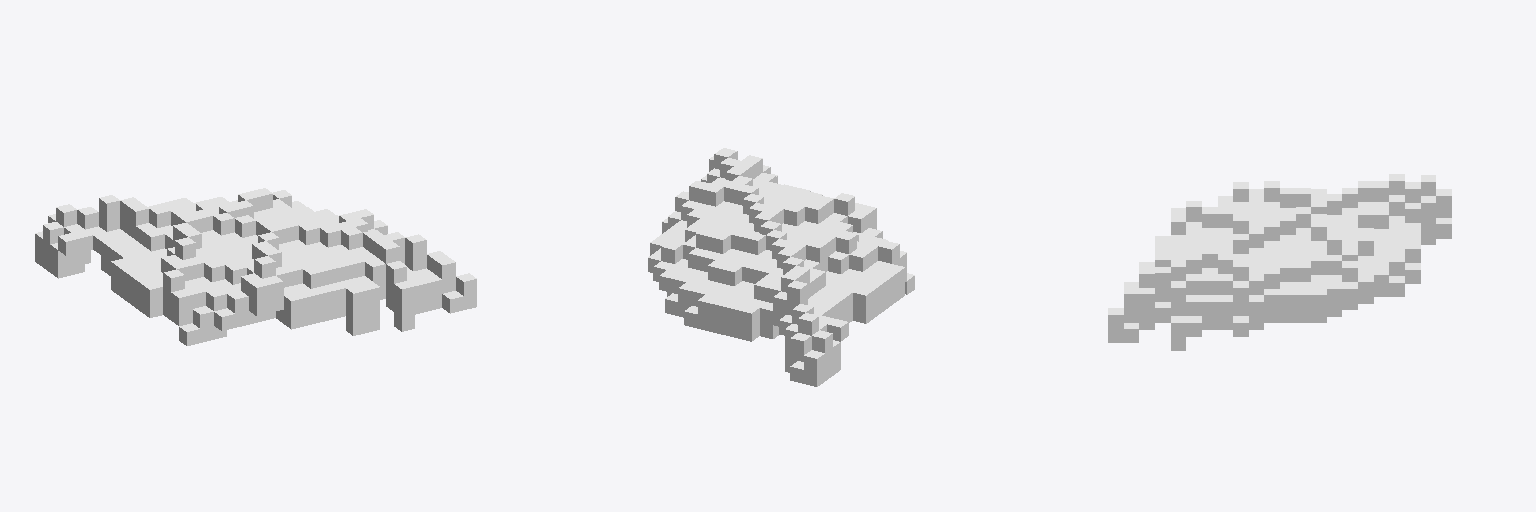
File: herb.obj
3 renders of one model, left to right at view 1: azimuth 30°, elevation 25°; view 2: azimuth 150°, elevation 25°; view 3: azimuth 270°, elevation 25°, orthographic.
Visible parts, largest first — view 1: ObjObject; view 2: ObjObject; view 3: ObjObject.
Part boxes in pixels (x1,y1,x2,y2): ObjObject: (35, 188, 476, 345); ObjObject: (648, 148, 914, 386); ObjObject: (1108, 174, 1451, 350).
Size of the model in its own units: 2 by 0.5 by 2.2.